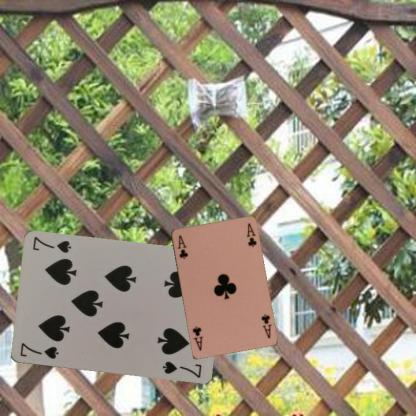7s: (18, 340, 60, 360)
Ac: (258, 311, 273, 340), (174, 232, 189, 260)
